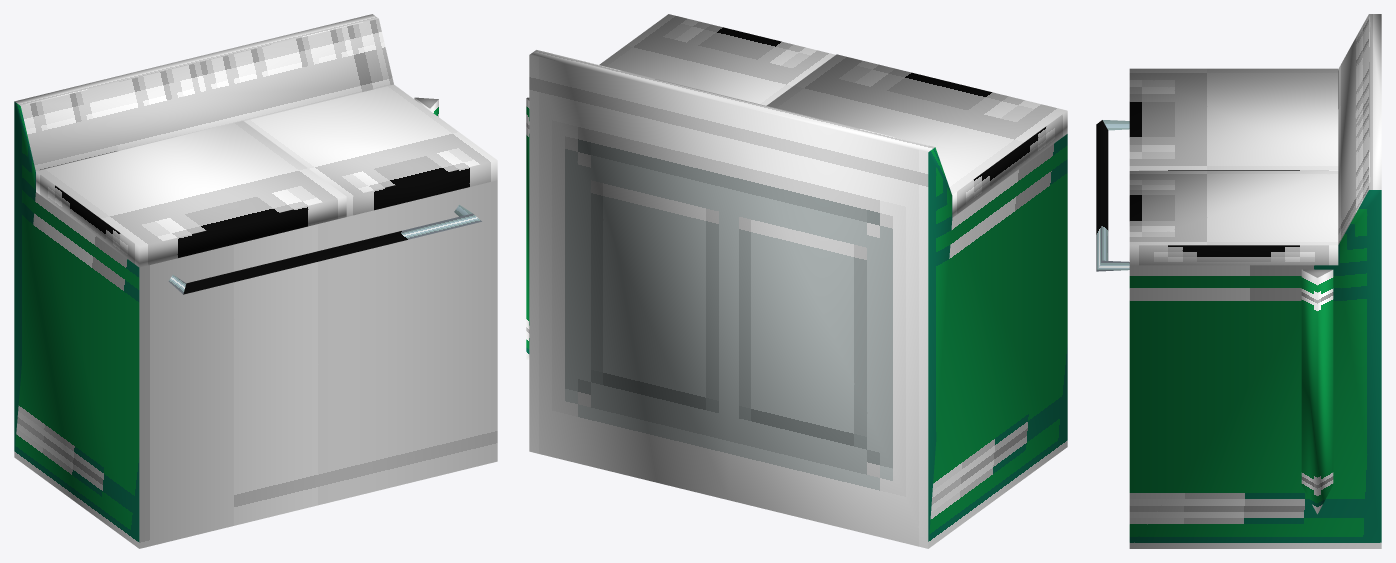
The picture shows the model from 3 angles, left to right: view 1: azimuth 30°, elevation 25°; view 2: azimuth 150°, elevation 25°; view 3: azimuth 270°, elevation 25°; orthographic projection. The views are drawn at different scales.
Visible parts, largest first — view 1: 3529IMEL01_30; view 2: 3529IMEL01_30; view 3: 3529IMEL01_30.
Part boxes in pixels (box(x1,y1,x2,y2)): 3529IMEL01_30: box(14, 14, 497, 548); 3529IMEL01_30: box(526, 14, 1067, 548); 3529IMEL01_30: box(1096, 14, 1381, 548).
Size of the model in its own units: 1.57 by 1.36 by 0.9802.
Materials: 3 (3 with a texture image).
